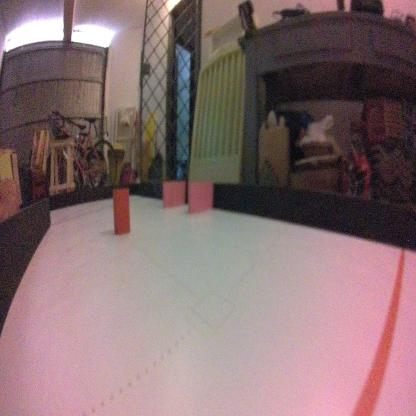magenta: (188, 180, 214, 215), (162, 178, 186, 208)
red: (111, 186, 131, 236)
